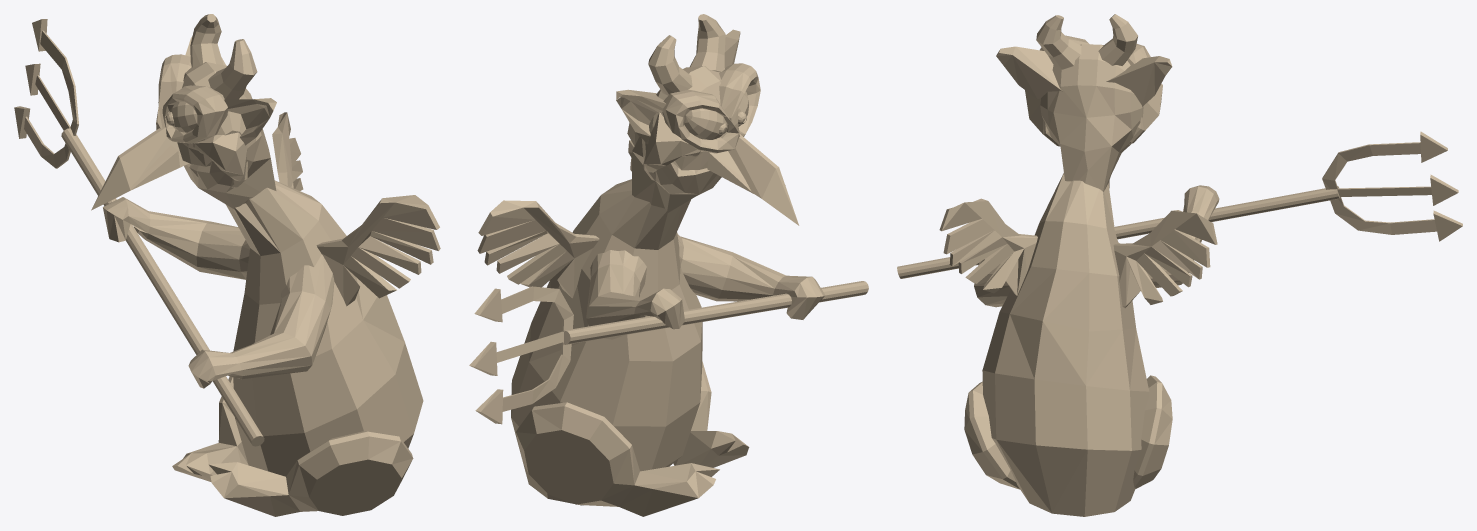
The model's file is tulou.glb.
3 views of the same model, side by side, from view 1: azimuth 30°, elevation 25°; view 2: azimuth 150°, elevation 25°; view 3: azimuth 270°, elevation 25° (orthographic). The views are drawn at different scales.
Parts seen in each view (by area): view 1: group2079220507; view 2: group2079220507; view 3: group2079220507.
Boxes of the visible parts, box(x1,y1,x2,y2) form: group2079220507: box(14, 14, 440, 516); group2079220507: box(469, 14, 868, 516); group2079220507: box(897, 14, 1462, 516).
Bounding box in the file's own units: 0.4761 × 0.7402 × 0.8688.
